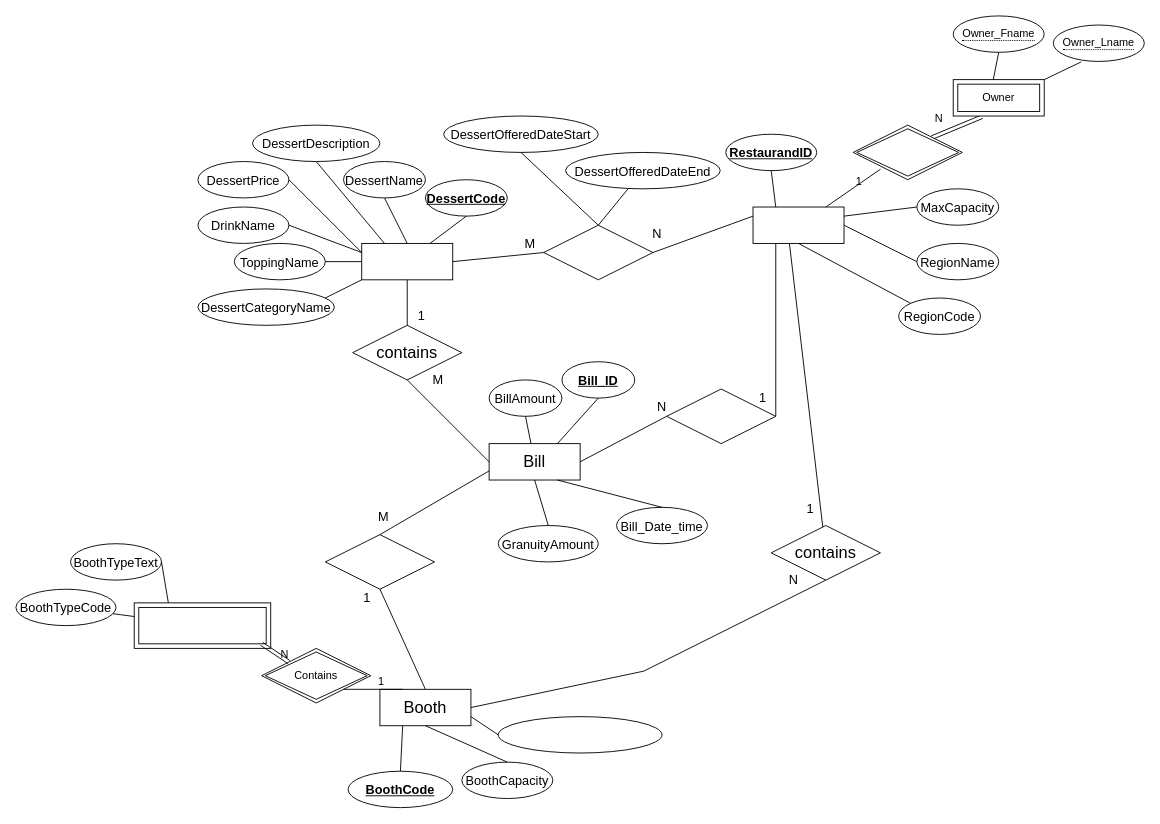
Some shapes in this 1160 by 824 pixel diagram are drawn without their labels. The shapes that lost their labels are listed below. From the top down, each one's centre as x and y in pixels, then its label:
At point (907, 152): "har".
At point (798, 224): "Restaurant".
At point (407, 261): "Dessert".
At point (598, 252): "offer".
At point (721, 416): "process".
At point (379, 561): "generate".
At point (202, 625): "BoothType".
At point (579, 734): "SmokingSectionIndicator".
